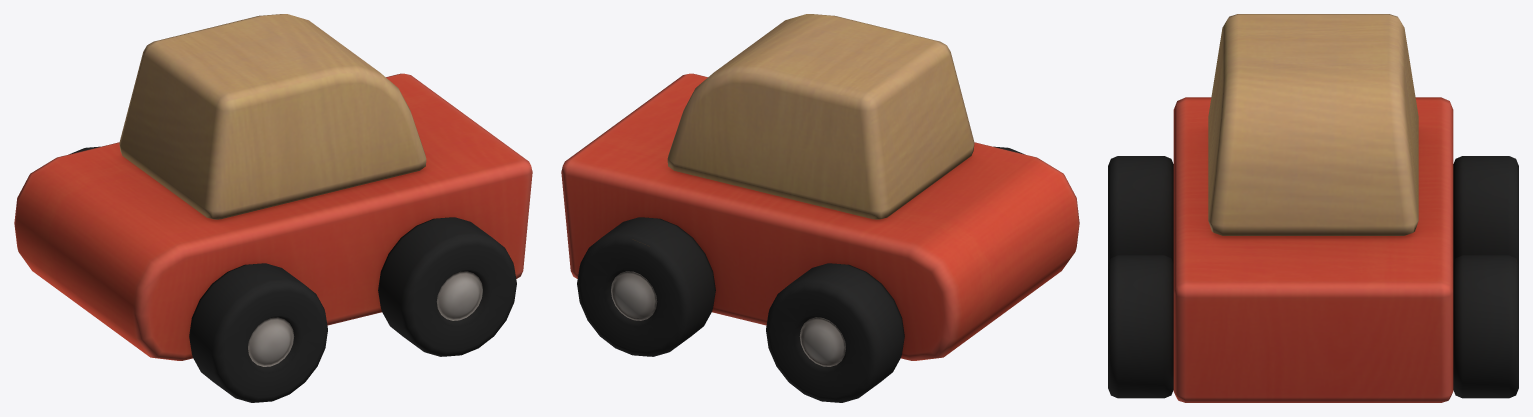
The model's file is StackUp_ToyCar.fbx.
3 renders of one model, left to right at view 1: azimuth 30°, elevation 25°; view 2: azimuth 150°, elevation 25°; view 3: azimuth 270°, elevation 25°, orthographic. The views are drawn at different scales.
Parts seen in each view (by area): view 1: StackUp_ToyCar; view 2: StackUp_ToyCar; view 3: StackUp_ToyCar.
Boxes of the visible parts, x1,y1,x2,y2 form: StackUp_ToyCar: [14, 14, 532, 402]; StackUp_ToyCar: [561, 14, 1079, 402]; StackUp_ToyCar: [1108, 14, 1518, 402].
Size of the model in its own units: 13.94 by 8.86 by 11.56.
